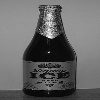beer: (21, 5, 78, 96)
